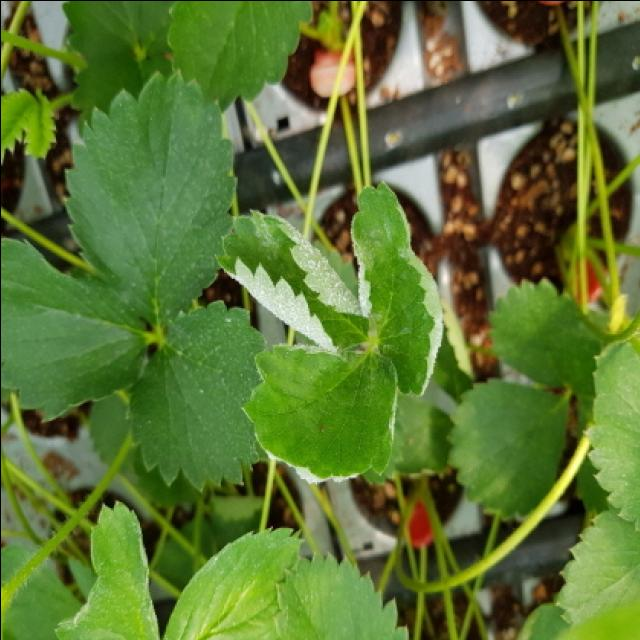Powdery Mildew Leaf: (212, 206, 370, 353), (239, 342, 398, 484), (347, 177, 445, 396), (52, 496, 163, 640)
